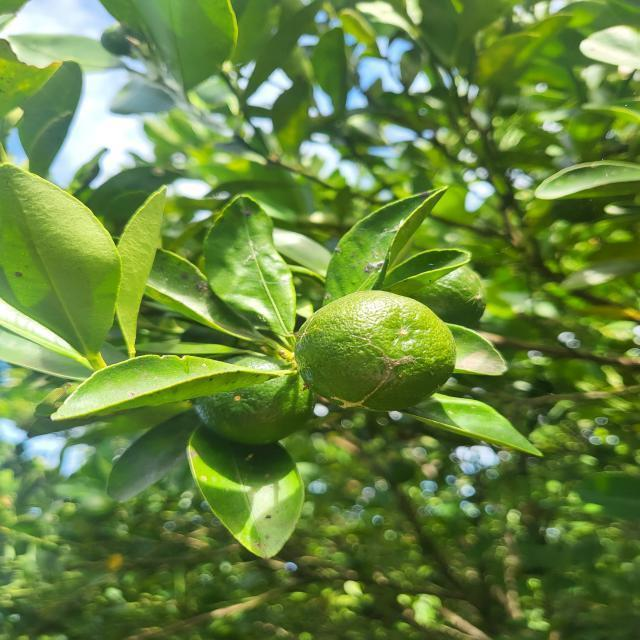thrips: (300, 288, 460, 409)
